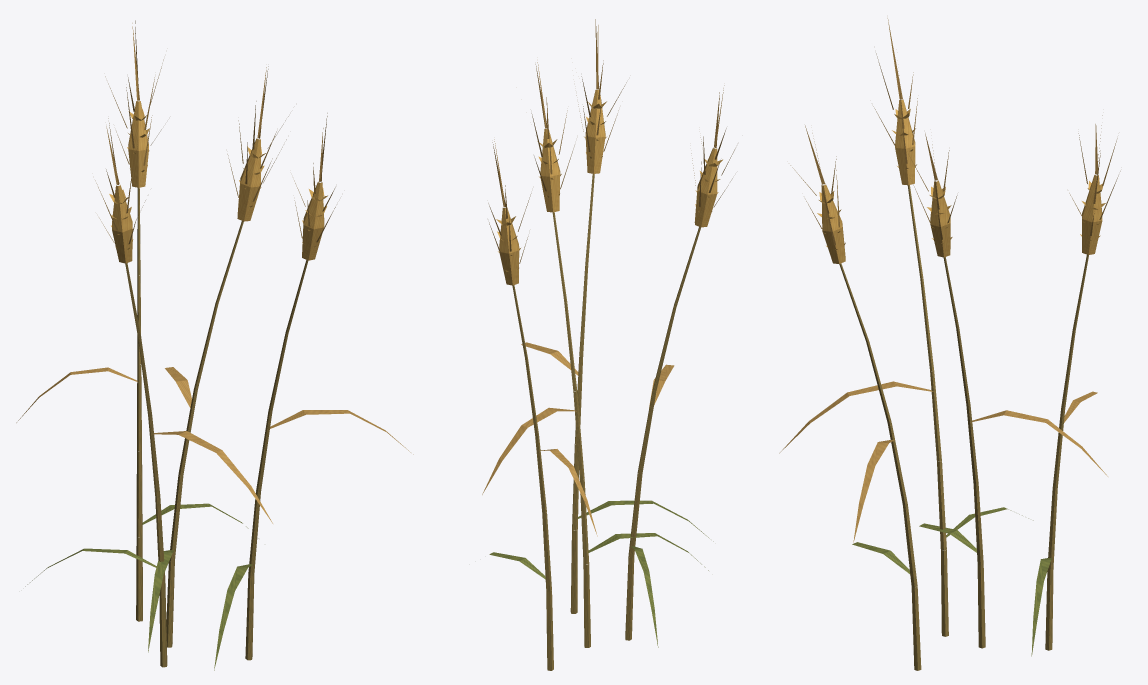
File: Wheat_Cluster_B.glb
3 renders of one model, left to right at view 1: azimuth 30°, elevation 25°; view 2: azimuth 150°, elevation 25°; view 3: azimuth 270°, elevation 25°, orthographic. The views are drawn at different scales.
Visible parts, largest first — view 1: world; view 2: world; view 3: world.
Part boxes in pixels (bbox=[...]): world: bbox=[16, 20, 413, 670]; world: bbox=[482, 19, 735, 670]; world: bbox=[779, 18, 1120, 670].
Bounding box in the file's own units: 1.01 × 1.91 × 1.05.
Materials: 1 (1 with a texture image).
